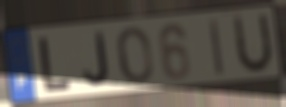6: (157, 21, 192, 83)
I: (207, 16, 226, 79)
J: (82, 29, 111, 89)
L: (37, 35, 74, 94)
O: (115, 25, 155, 86)
U: (232, 10, 276, 77)
